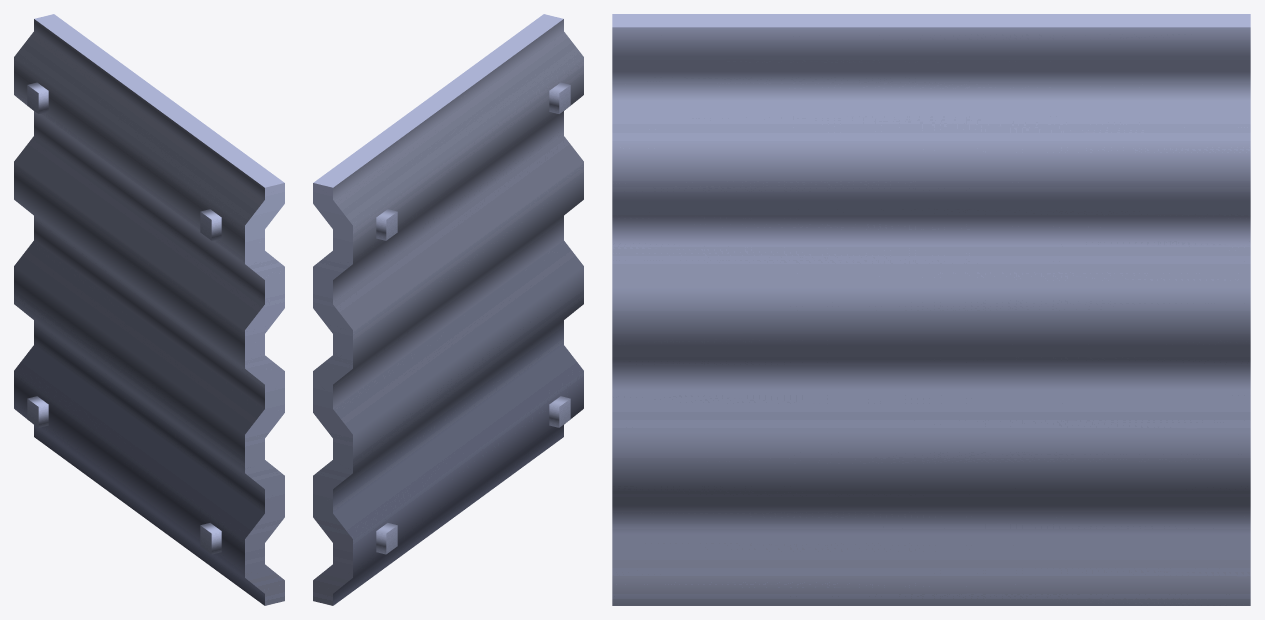
The model's file is Plating Detailed.glb.
3 views of the same model, side by side, from view 1: azimuth 30°, elevation 25°; view 2: azimuth 150°, elevation 25°; view 3: azimuth 270°, elevation 25° (orthographic). The views are drawn at different scales.
Parts seen in each view (by area): view 1: plating-detailed; view 2: plating-detailed; view 3: plating-detailed.
Part boxes in pixels (x1,y1,x2,y2): plating-detailed: (14, 14, 284, 605); plating-detailed: (313, 14, 583, 605); plating-detailed: (612, 14, 1250, 605).
Bounding box in the file's own units: 0.125 × 1 × 1.
Materials: 1 (1 with a texture image).
